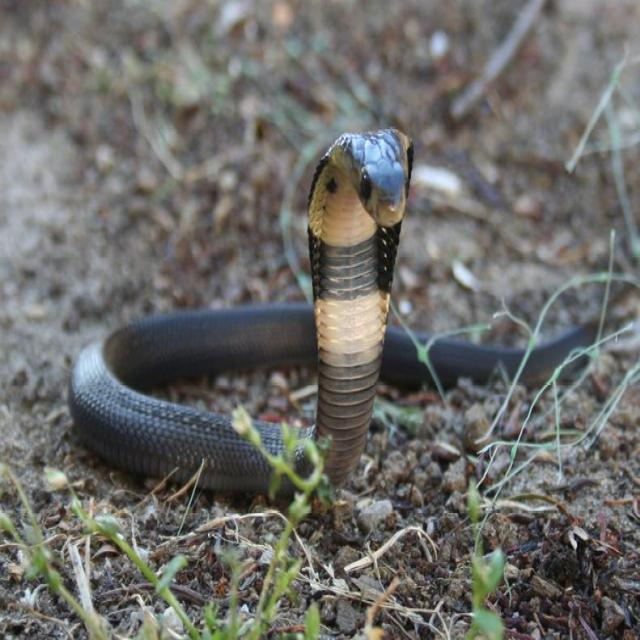Snake: (66, 124, 619, 500)
